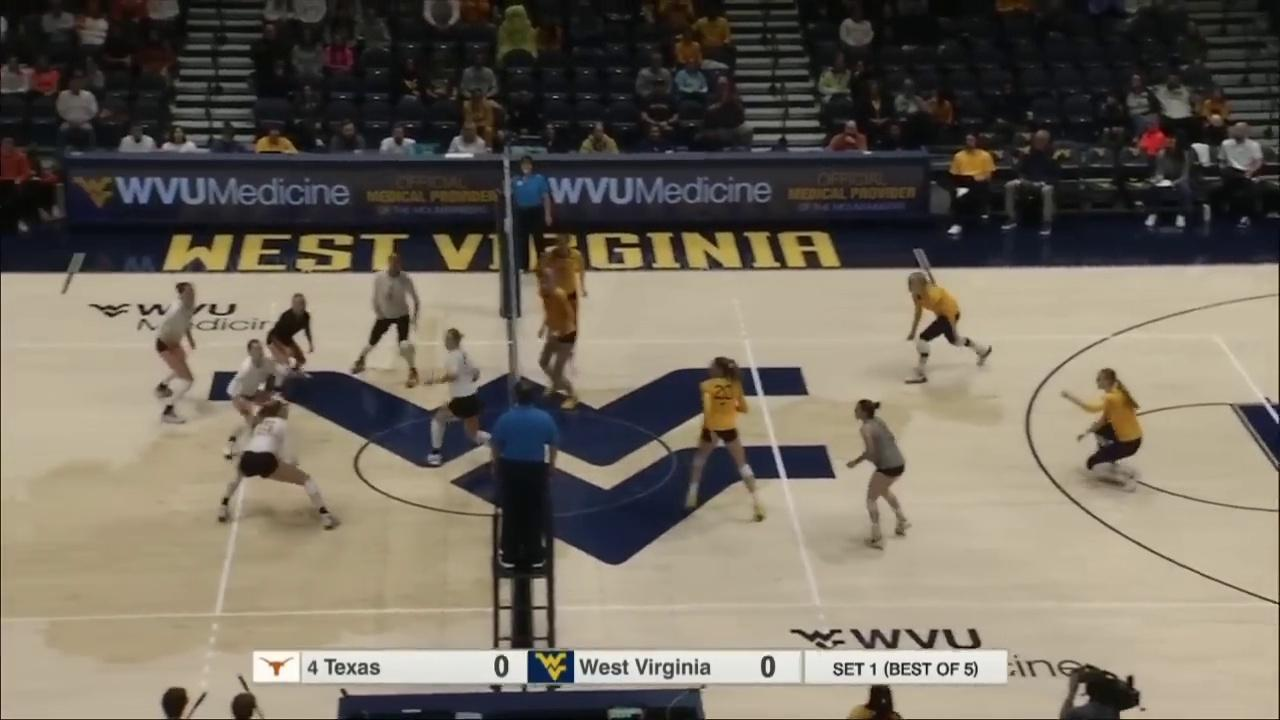player: (218, 399, 339, 532), (684, 355, 768, 521), (427, 329, 509, 463), (1060, 368, 1143, 491), (907, 273, 993, 385), (850, 399, 915, 547), (353, 252, 421, 387), (224, 338, 283, 459), (150, 281, 196, 422), (535, 269, 580, 407), (540, 233, 589, 358), (269, 292, 317, 404)
refree: (488, 381, 561, 568), (508, 157, 550, 273)
